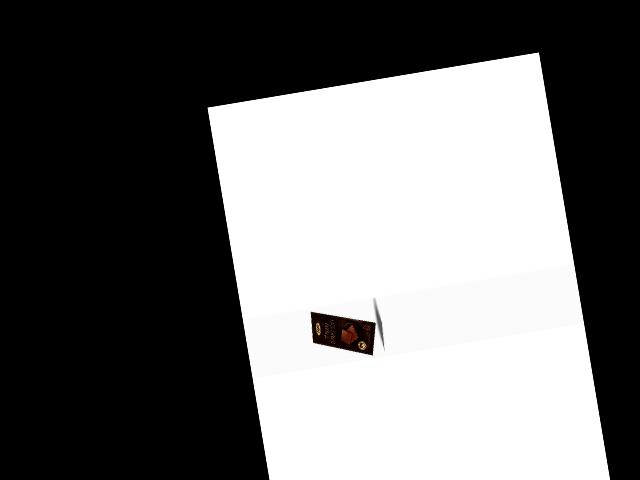chocolate: (307, 300, 383, 366)
